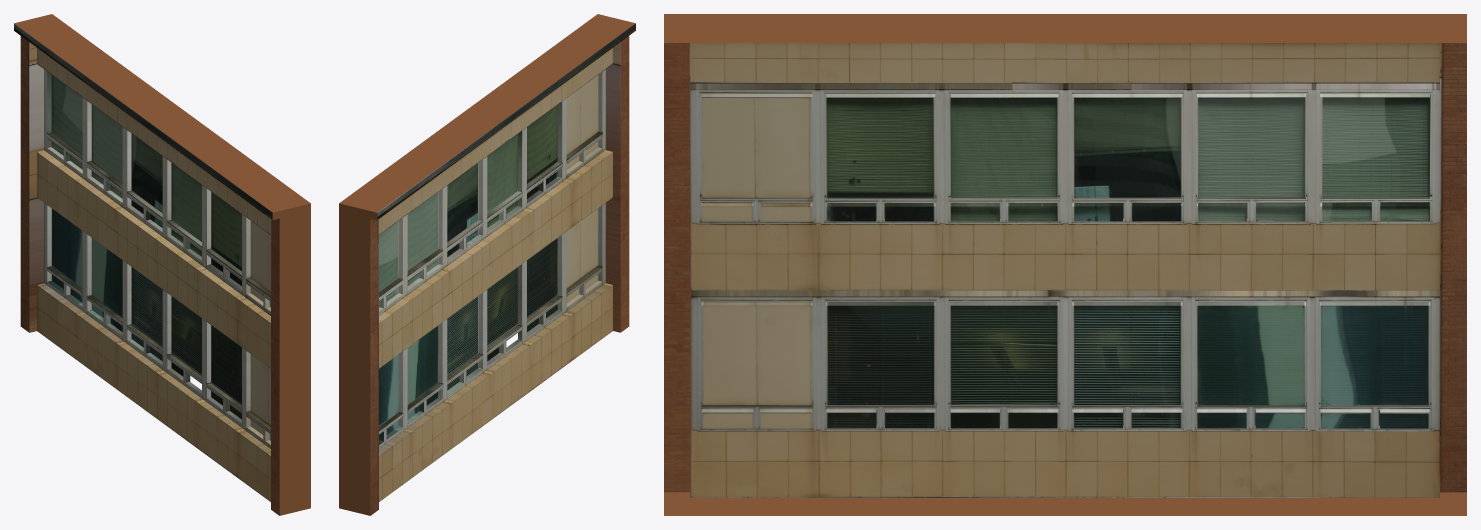
File: facade6.fbx
The picture shows the model from 3 angles, left to right: view 1: azimuth 30°, elevation 25°; view 2: azimuth 150°, elevation 25°; view 3: azimuth 270°, elevation 25°; orthographic projection. The views are drawn at different scales.
Visible parts, largest first — view 1: façade6; view 2: façade6; view 3: façade6.
Boxes of the visible parts, x1,y1,x2,y2 form: façade6: [14, 14, 310, 515]; façade6: [339, 14, 635, 515]; façade6: [664, 14, 1466, 515].
Bounding box in the file's own units: 3.66 × 27.98 × 43.03.
Materials: 2 (2 with a texture image).
